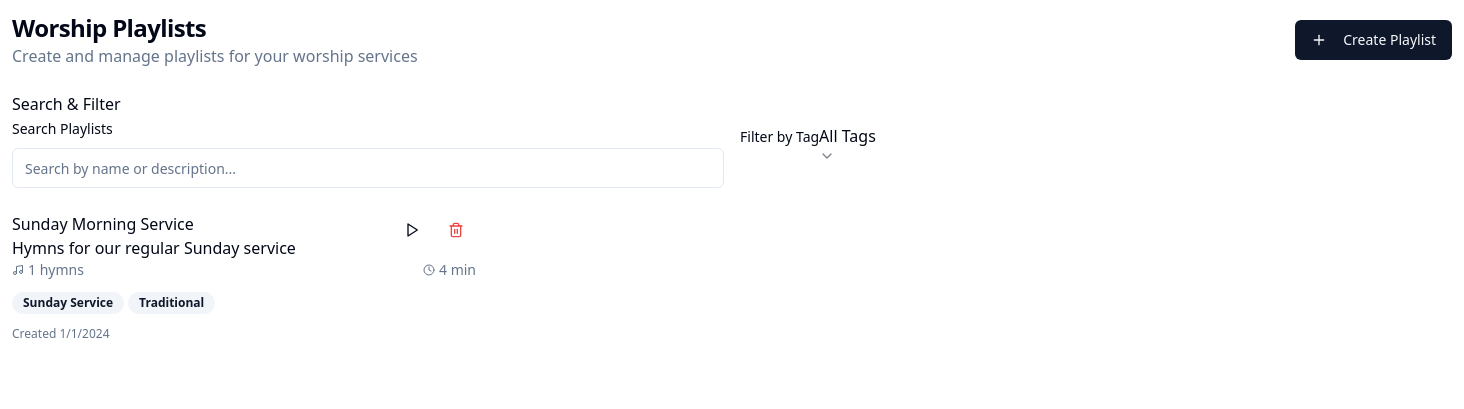
Test: PlaylistManager › Empty States › shows filtered empty state
The image size is (1464, 409).
In the field with placeholder "Search by name or description...": (368, 168) [12,148,724,188], type "NonexistentPlaylist"
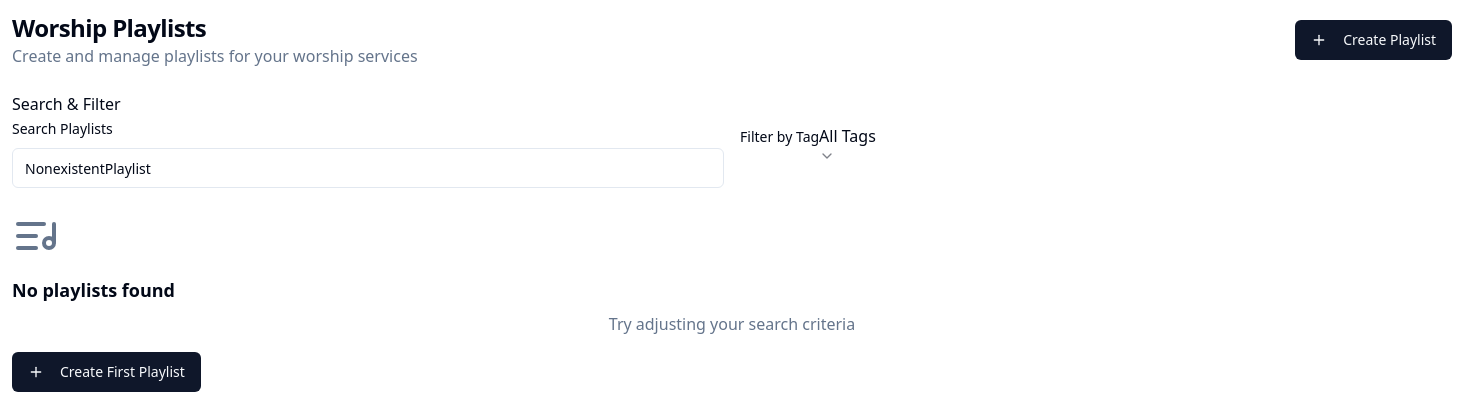
Expected: the text "Try adjusting your search criteria" is shown, [609,313,855,335]
